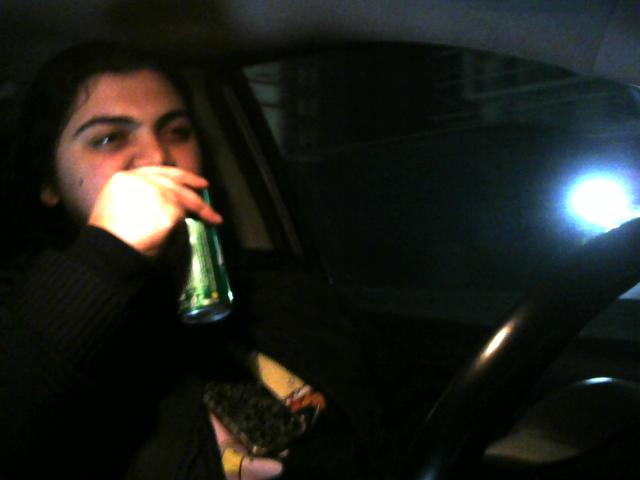Drinking: (36, 70, 233, 325)
